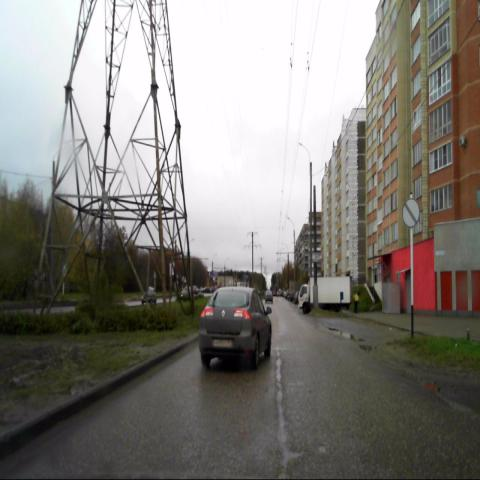3_31: (402, 198, 419, 228)
